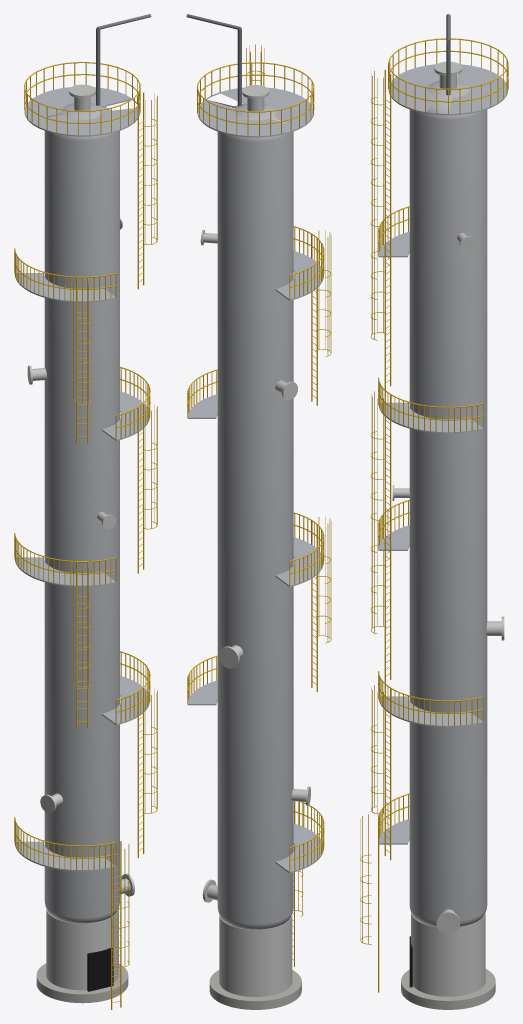
Rendered from distillation_tower.glb.
The picture shows the model from 3 angles, left to right: view 1: azimuth 30°, elevation 25°; view 2: azimuth 150°, elevation 25°; view 3: azimuth 270°, elevation 25°; orthographic projection. The views are drawn at different scales.
Visible parts, largest first — view 1: 03_Insulation, 02_Ladders_Railings, 05_Platforms, 07_Tower_Shell, 01_Foundation, 04_Openings, 06_Structural_Steel; view 2: 03_Insulation, 02_Ladders_Railings, 05_Platforms, 07_Tower_Shell, 01_Foundation, 06_Structural_Steel; view 3: 03_Insulation, 02_Ladders_Railings, 05_Platforms, 07_Tower_Shell, 01_Foundation, 06_Structural_Steel.
Boxes of the visible parts, x1,y1,x2,y2 form: 03_Insulation: [44, 103, 119, 923]; 02_Ladders_Railings: [14, 62, 157, 1009]; 05_Platforms: [15, 87, 149, 871]; 07_Tower_Shell: [27, 84, 134, 990]; 01_Foundation: [36, 963, 128, 1003]; 04_Openings: [87, 948, 113, 991]; 06_Structural_Steel: [96, 14, 151, 105]; 03_Insulation: [217, 103, 293, 929]; 02_Ladders_Railings: [187, 44, 331, 966]; 05_Platforms: [187, 87, 323, 873]; 07_Tower_Shell: [200, 85, 310, 996]; 01_Foundation: [209, 970, 301, 1009]; 06_Structural_Steel: [186, 14, 241, 106]; 03_Insulation: [409, 80, 487, 926]; 02_Ladders_Railings: [360, 38, 508, 992]; 05_Platforms: [378, 64, 508, 844]; 07_Tower_Shell: [392, 61, 504, 996]; 01_Foundation: [401, 969, 495, 1009]; 06_Structural_Steel: [446, 14, 450, 95].
Size of the model in its own units: 6.07 by 43.57 by 5.97.
Materials: 7 (7 with a texture image).
